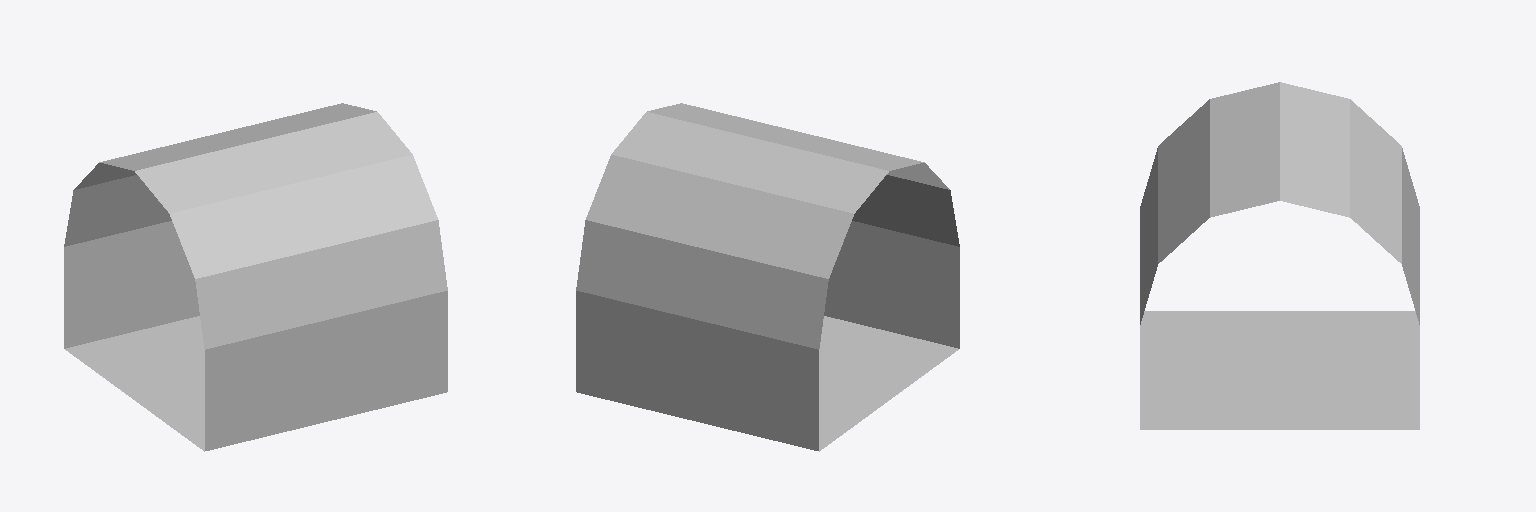
The model's file is tunnel_1.obj.
3 renders of one model, left to right at view 1: azimuth 30°, elevation 25°; view 2: azimuth 150°, elevation 25°; view 3: azimuth 270°, elevation 25°, orthographic.
Visible parts, largest first — view 1: tunnel_1; view 2: tunnel_1; view 3: tunnel_1.
Part boxes in pixels (x1,y1,x2,y2): tunnel_1: (64,103,447,451); tunnel_1: (576,103,959,451); tunnel_1: (1140,82,1419,429).
Size of the model in its own units: 2 by 1.8 by 2.